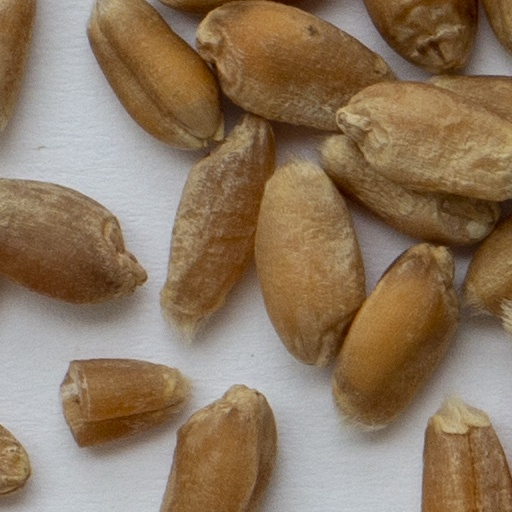Wheat-grain-damaged-poly: (58, 356, 187, 449)
